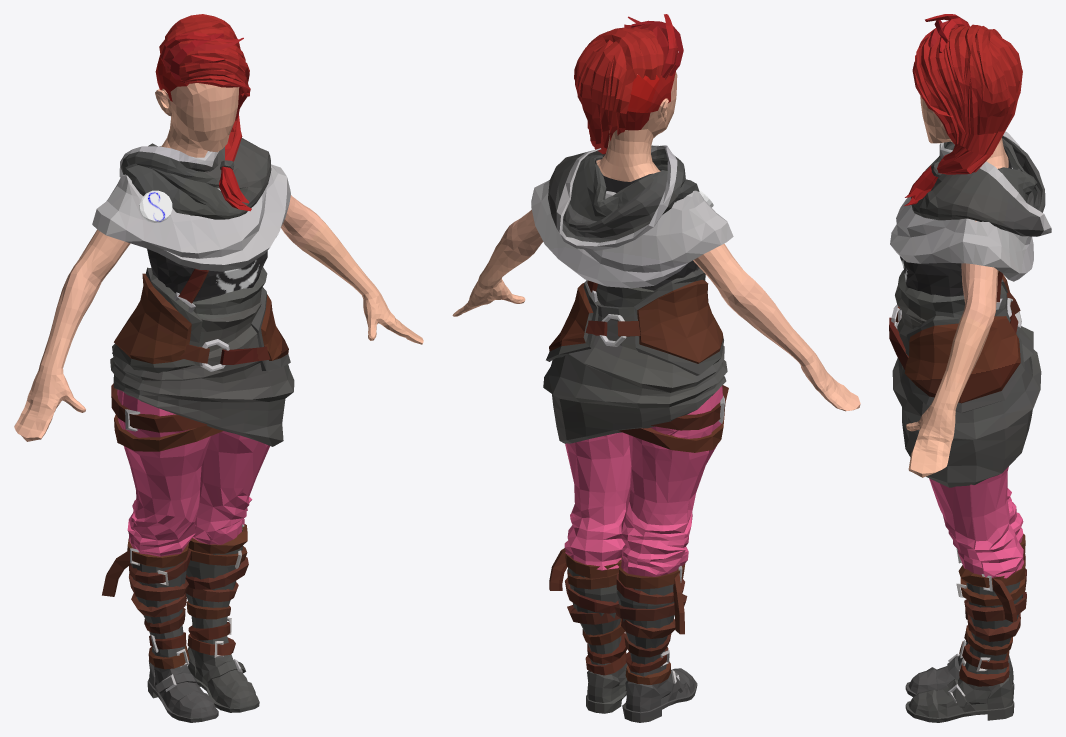
File: TempPlayer.fbx
3 views of the same model, side by side, from view 1: azimuth 30°, elevation 25°; view 2: azimuth 150°, elevation 25°; view 3: azimuth 270°, elevation 25° (orthographic).
Parts seen in each view (by area): view 1: MPC_Female_Dream.mo; view 2: MPC_Female_Dream.mo; view 3: MPC_Female_Dream.mo.
Part boxes in pixels (x1,y1,x2,y2): MPC_Female_Dream.mo: [14, 14, 423, 722]; MPC_Female_Dream.mo: [452, 14, 860, 722]; MPC_Female_Dream.mo: [889, 14, 1051, 722].
Size of the model in its own units: 111 by 179 by 38.92.
